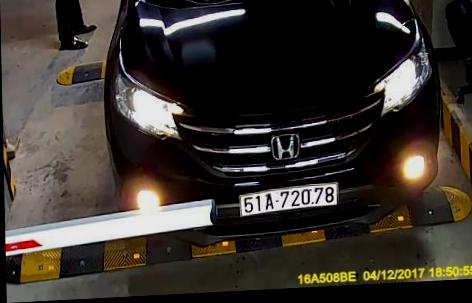License_Plate: (235, 184, 340, 215)
